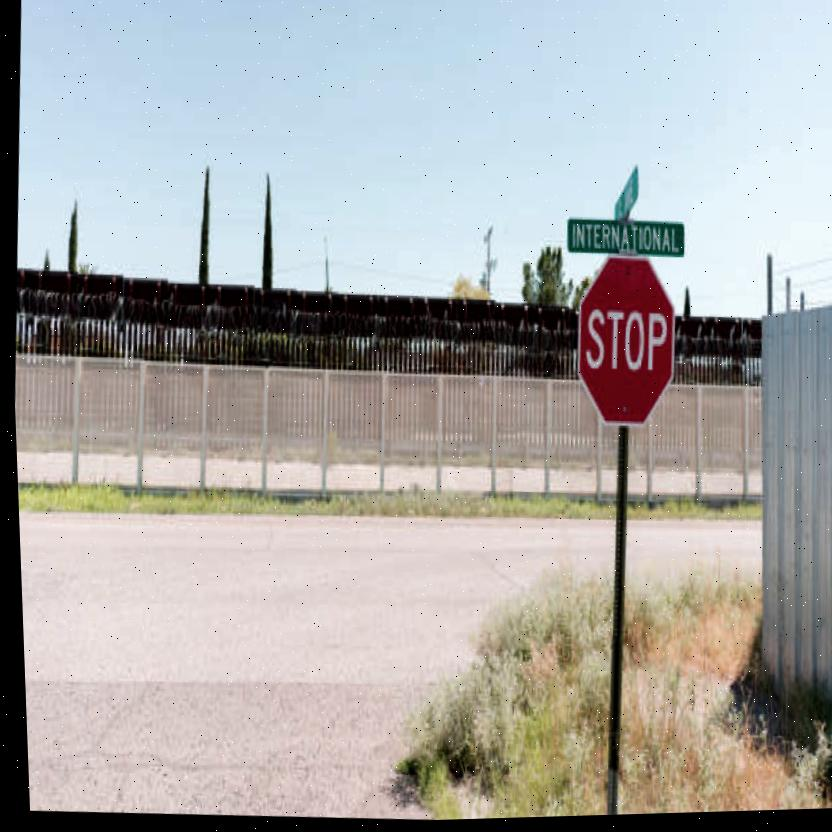Pole: (588, 428, 636, 819)
Sign: (569, 259, 679, 436)
